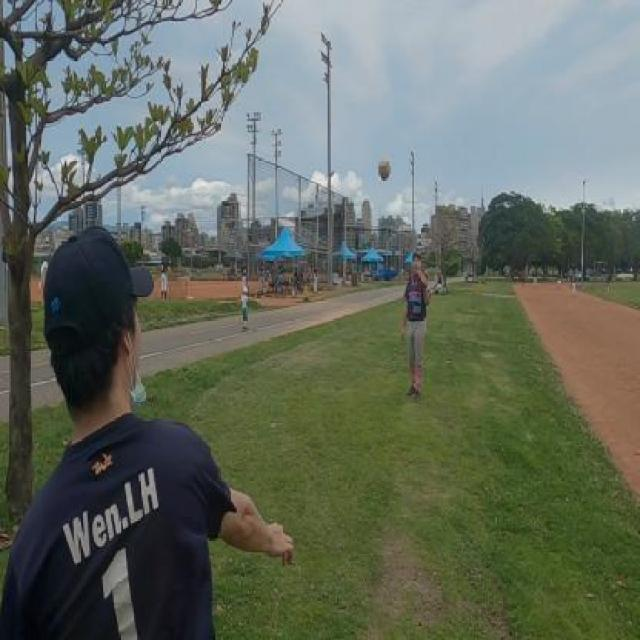ball: (376, 156, 394, 180)
